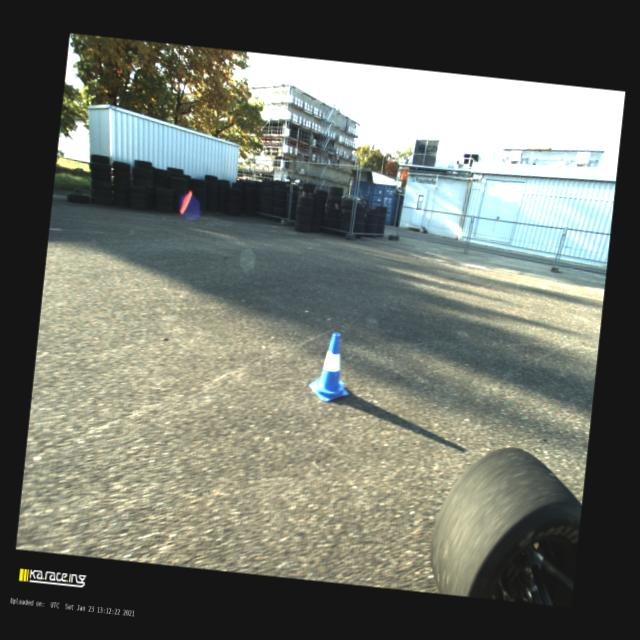blue_cone: (306, 331, 354, 403)
